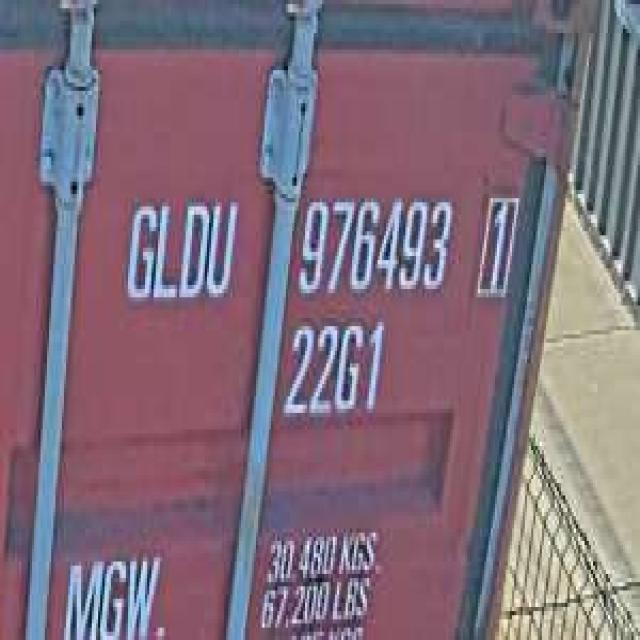dv: (474, 178, 520, 306)
owner: (120, 182, 241, 310)
serial: (292, 182, 454, 301)
size: (280, 310, 388, 425)
